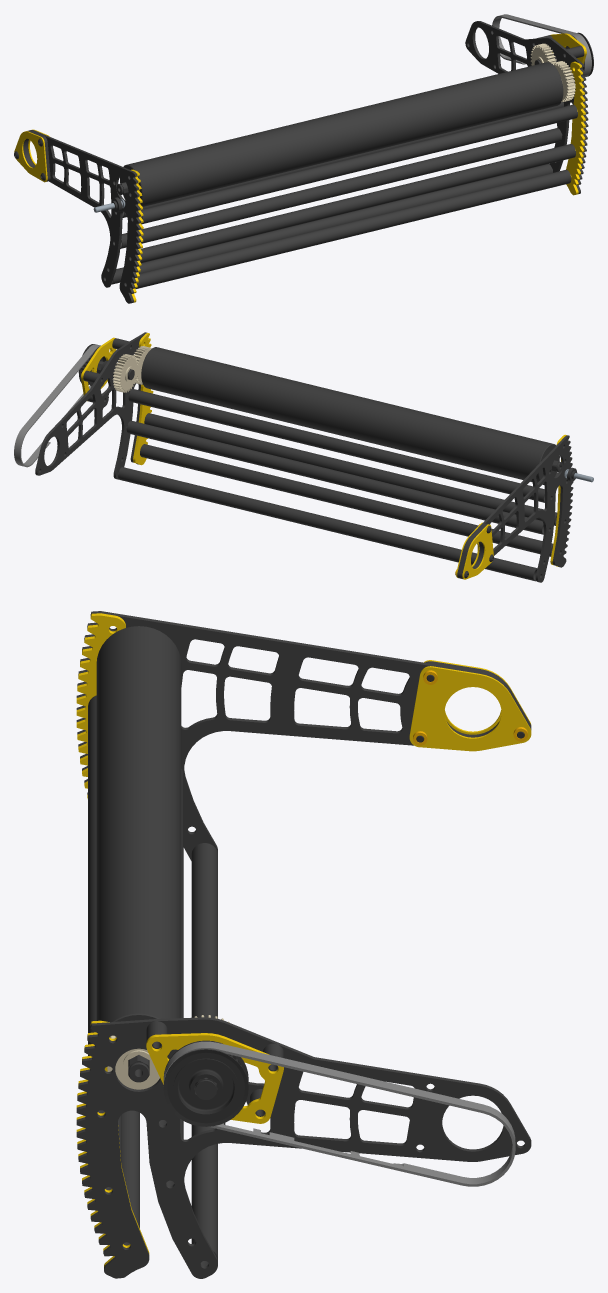
The picture shows the model from 3 angles, top to bottom: view 1: azimuth 30°, elevation 25°; view 2: azimuth 150°, elevation 25°; view 3: azimuth 270°, elevation 25°; orthographic projection. The views are drawn at different scales.
Parts seen in each view (by area): view 1: 6328-26C-3118 Outer Hood CF Tube (×3), 6328-26C-3132 Hood Back Roller, 6328-26C-3135 Inner Hood CF Tube (×3), 6328-26C-3107 Hood Left Plate, 6328-26C-3110 Hood Right Plate, 6328-26C-3119 Hood Rack Thickener Plate (×2), 34t Aluminum Spur Gear (20 DP, 1/2" Hex Bore) (×2), 96T HTD Belt, 6328-26C-3116 Hood-Drum Outer Thickener Plate; view 2: 6328-26C-3132 Hood Back Roller, 6328-26C-3135 Inner Hood CF Tube (×3), 6328-26C-3118 Outer Hood CF Tube (×2), 6328-26C-3107 Hood Left Plate, 6328-26C-3110 Hood Right Plate, 96T HTD Belt, 6328-26C-3116 Hood-Drum Outer Thickener Plate, 34t Aluminum Spur Gear (20 DP, 1/2" Hex Bore), 6328-26C-3119 Hood Rack Thickener Plate, 6328-26C-3111 Hood Daughter Plate; view 3: 6328-26C-3132 Hood Back Roller, 6328-26C-3110 Hood Right Plate, 6328-26C-3107 Hood Left Plate, 6328-26C-3135 Inner Hood CF Tube (×2), 96T HTD Belt, 6328-26C-3114 Hood-Drum Inner Thickener Plate, 30t Aluminum Pulley (HTD 5mm, 9mm Wide, 1/2" Hex Bore), 6328-26C-3118 Outer Hood CF Tube (×2), 6328-26C-3111 Hood Daughter Plate, 6328-26C-3119 Hood Rack Thickener Plate, 34t Aluminum Spur Gear (20 DP, 1/2" Hex Bore).
Boxes of the visible parts, left/top/right/bottom form: 6328-26C-3118 Outer Hood CF Tube (×3): left=135, top=104, right=577, bottom=288; 6328-26C-3132 Hood Back Roller: left=129, top=62, right=561, bottom=206; 6328-26C-3135 Inner Hood CF Tube (×3): left=111, top=102, right=563, bottom=284; 6328-26C-3107 Hood Left Plate: left=25, top=130, right=141, bottom=303; 6328-26C-3110 Hood Right Plate: left=465, top=21, right=588, bottom=193; 6328-26C-3119 Hood Rack Thickener Plate (×2): left=131, top=61, right=585, bottom=302; 34t Aluminum Spur Gear (20 DP, 1/2" Hex Bore) (×2): left=530, top=43, right=575, bottom=101; 96T HTD Belt: left=492, top=14, right=591, bottom=77; 6328-26C-3116 Hood-Drum Outer Thickener Plate: left=14, top=131, right=47, bottom=182; 6328-26C-3132 Hood Back Roller: left=143, top=347, right=551, bottom=482; 6328-26C-3135 Inner Hood CF Tube (×3): left=118, top=389, right=544, bottom=581; 6328-26C-3118 Outer Hood CF Tube (×2): left=140, top=413, right=557, bottom=556; 6328-26C-3107 Hood Left Plate: left=457, top=435, right=573, bottom=582; 6328-26C-3110 Hood Right Plate: left=35, top=332, right=146, bottom=479; 96T HTD Belt: left=14, top=344, right=100, bottom=467; 6328-26C-3116 Hood-Drum Outer Thickener Plate: left=462, top=524, right=493, bottom=579; 34t Aluminum Spur Gear (20 DP, 1/2" Hex Bore): left=112, top=354, right=138, bottom=392; 6328-26C-3119 Hood Rack Thickener Plate: left=133, top=333, right=153, bottom=465; 6328-26C-3111 Hood Daughter Plate: left=81, top=337, right=116, bottom=401; 6328-26C-3132 Hood Back Roller: left=96, top=628, right=181, bottom=1021; 6328-26C-3110 Hood Right Plate: left=76, top=1017, right=531, bottom=1278; 6328-26C-3107 Hood Left Plate: left=76, top=611, right=531, bottom=860; 6328-26C-3135 Inner Hood CF Tube (×2): left=166, top=769, right=217, bottom=1266; 96T HTD Belt: left=163, top=1041, right=515, bottom=1186; 6328-26C-3114 Hood-Drum Inner Thickener Plate: left=409, top=666, right=531, bottom=751; 30t Aluminum Pulley (HTD 5mm, 9mm Wide, 1/2" Hex Bore): left=163, top=1040, right=248, bottom=1126; 6328-26C-3118 Outer Hood CF Tube (×2): left=88, top=695, right=139, bottom=1245; 6328-26C-3111 Hood Daughter Plate: left=146, top=1033, right=283, bottom=1123; 6328-26C-3119 Hood Rack Thickener Plate: left=76, top=613, right=125, bottom=798; 34t Aluminum Spur Gear (20 DP, 1/2" Hex Bore): left=107, top=1035, right=159, bottom=1089.
Size of the model in its own units: 0.6699 by 0.1714 by 0.2725.
